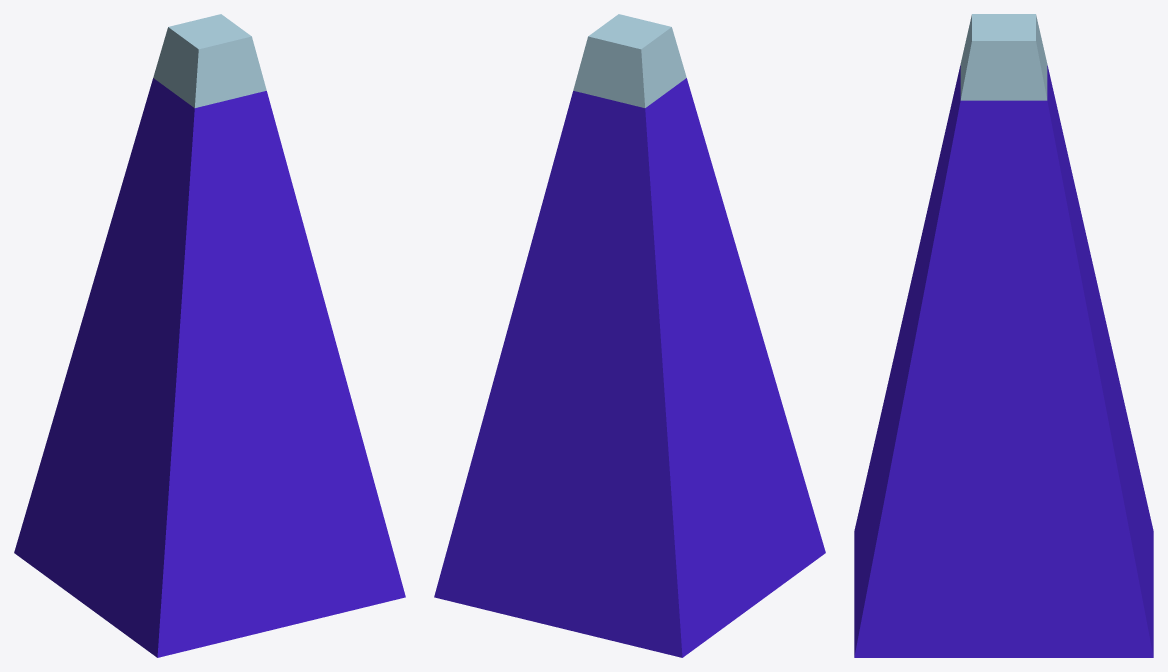
File: Motain_02.fbx
The picture shows the model from 3 angles, left to right: view 1: azimuth 30°, elevation 25°; view 2: azimuth 150°, elevation 25°; view 3: azimuth 270°, elevation 25°; orthographic projection. The views are drawn at different scales.
Parts seen in each view (by area): view 1: Cube; view 2: Cube; view 3: Cube.
Boxes of the visible parts, x1,y1,x2,y2 form: Cube: (14, 14, 405, 657); Cube: (434, 14, 825, 657); Cube: (854, 14, 1153, 657).
Size of the model in its own units: 352 by 736 by 352.
